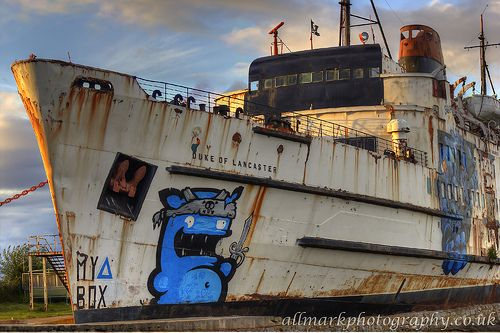rust: (11, 65, 49, 156), (68, 87, 112, 148), (369, 269, 482, 291), (400, 27, 443, 58), (251, 184, 264, 226)
